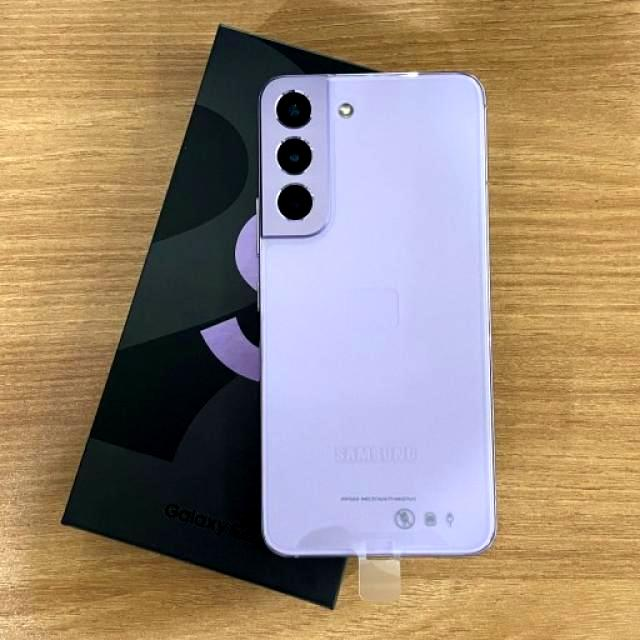lens_back: (272, 183, 318, 232), (270, 134, 320, 178), (274, 88, 319, 134)
phone: (255, 63, 500, 574)
